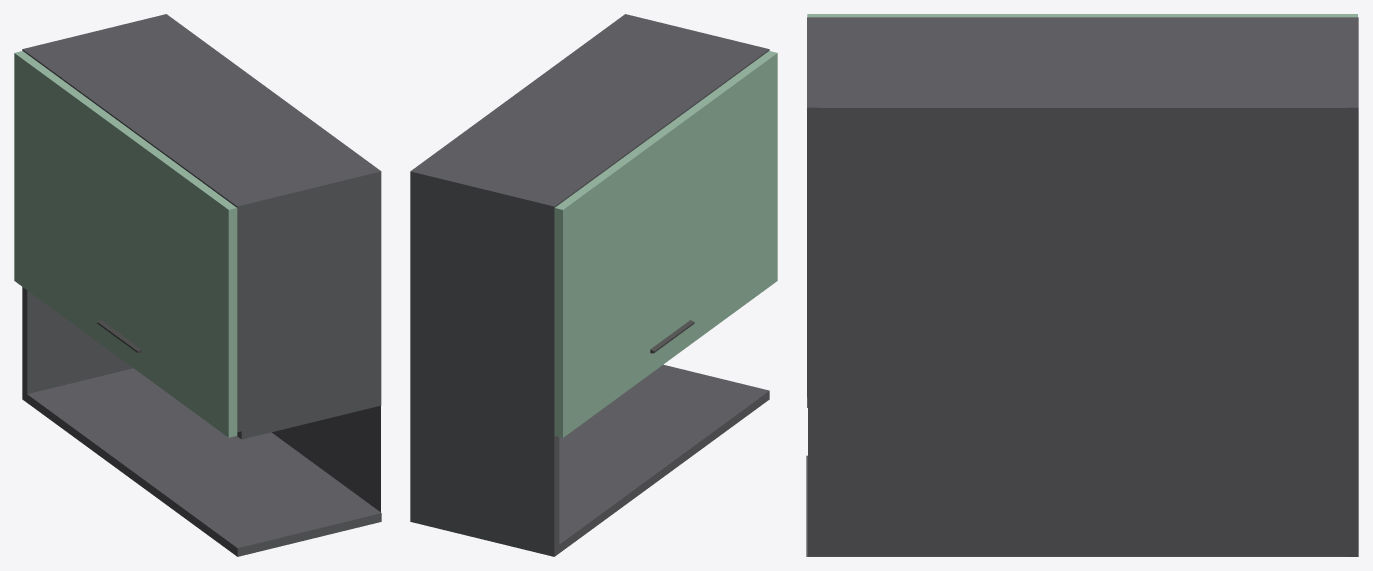
File: closet_2.fbx
3 renders of one model, left to right at view 1: azimuth 30°, elevation 25°; view 2: azimuth 150°, elevation 25°; view 3: azimuth 270°, elevation 25°, orthographic. The views are drawn at different scales.
Parts seen in each view (by area): view 1: closet_2; view 2: closet_2; view 3: closet_2.
Part boxes in pixels (x1,y1,x2,y2): closet_2: [14, 14, 381, 556]; closet_2: [410, 14, 777, 556]; closet_2: [806, 14, 1358, 556].
Size of the model in its own units: 9.58 by 22.81 by 20.48.
